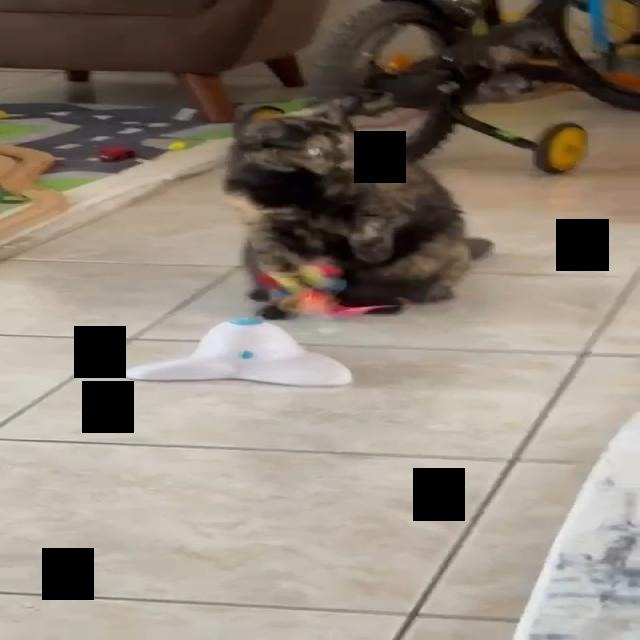authorized: (220, 93, 495, 317)
